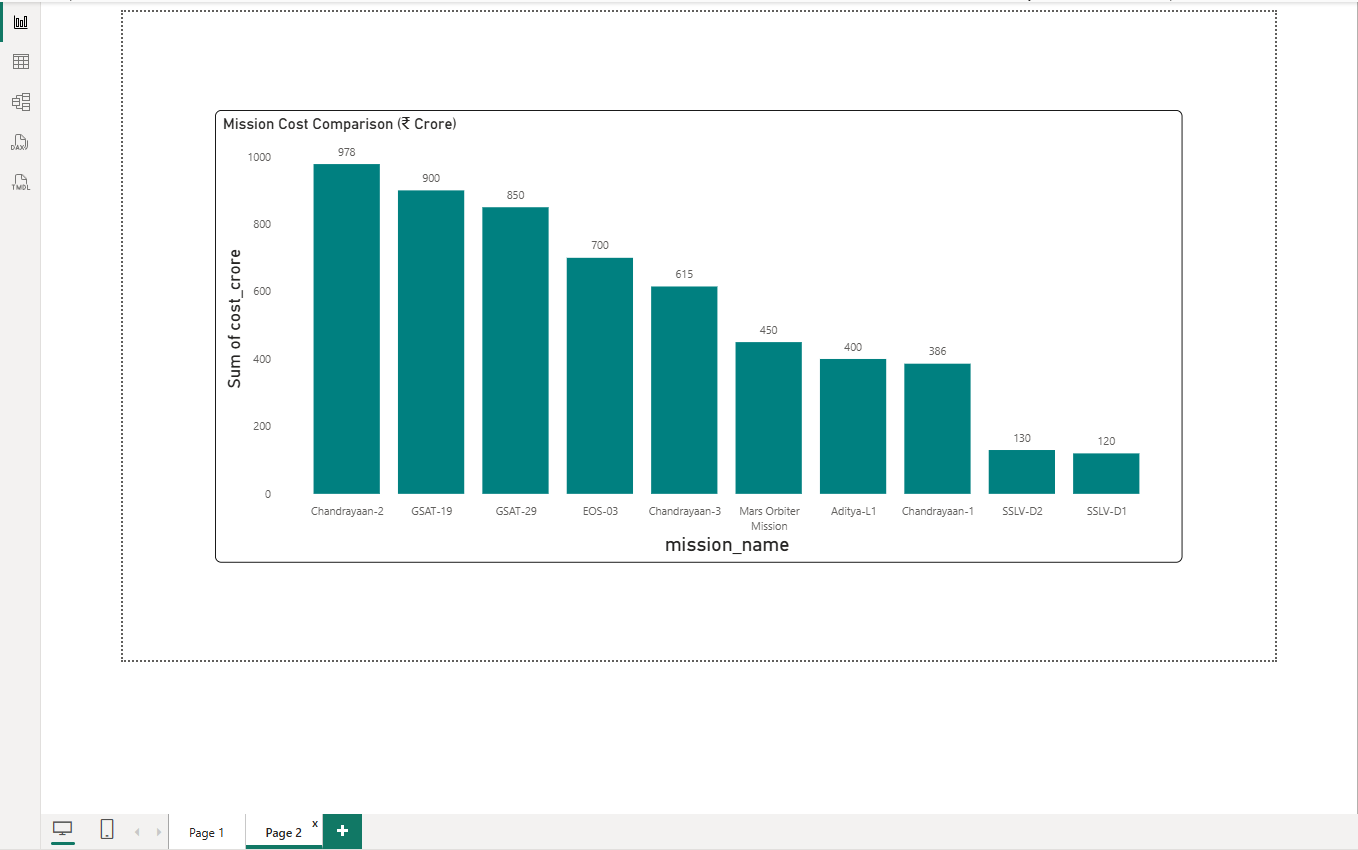

The dashboard page shown, as its layout file describes it:
{"tool":"powerbi","page":{"name":"Page 2","canvas":[1280,720],"ordinal":1},"visuals":[{"type":"clusteredColumnChart","title":"Mission Cost Comparison (₹ Crore)","fields":{"Y":["Sum(cost_analysis.cost_crore)"],"Category":["cost_analysis.mission_name"]},"box":[102.5,108.8,1075,502.5],"z":0}]}

Visuals, with their boxes on the page's 1280x720 design canvas (x1, y1, x2, y2). These are canvas units, not pixel positions in the 1358x850 screenshot, which may show the page scaled, cropped or inside an application window:
"Mission Cost Comparison (₹ Crore)" clusteredColumnChart: bbox(102, 109, 1178, 611)
